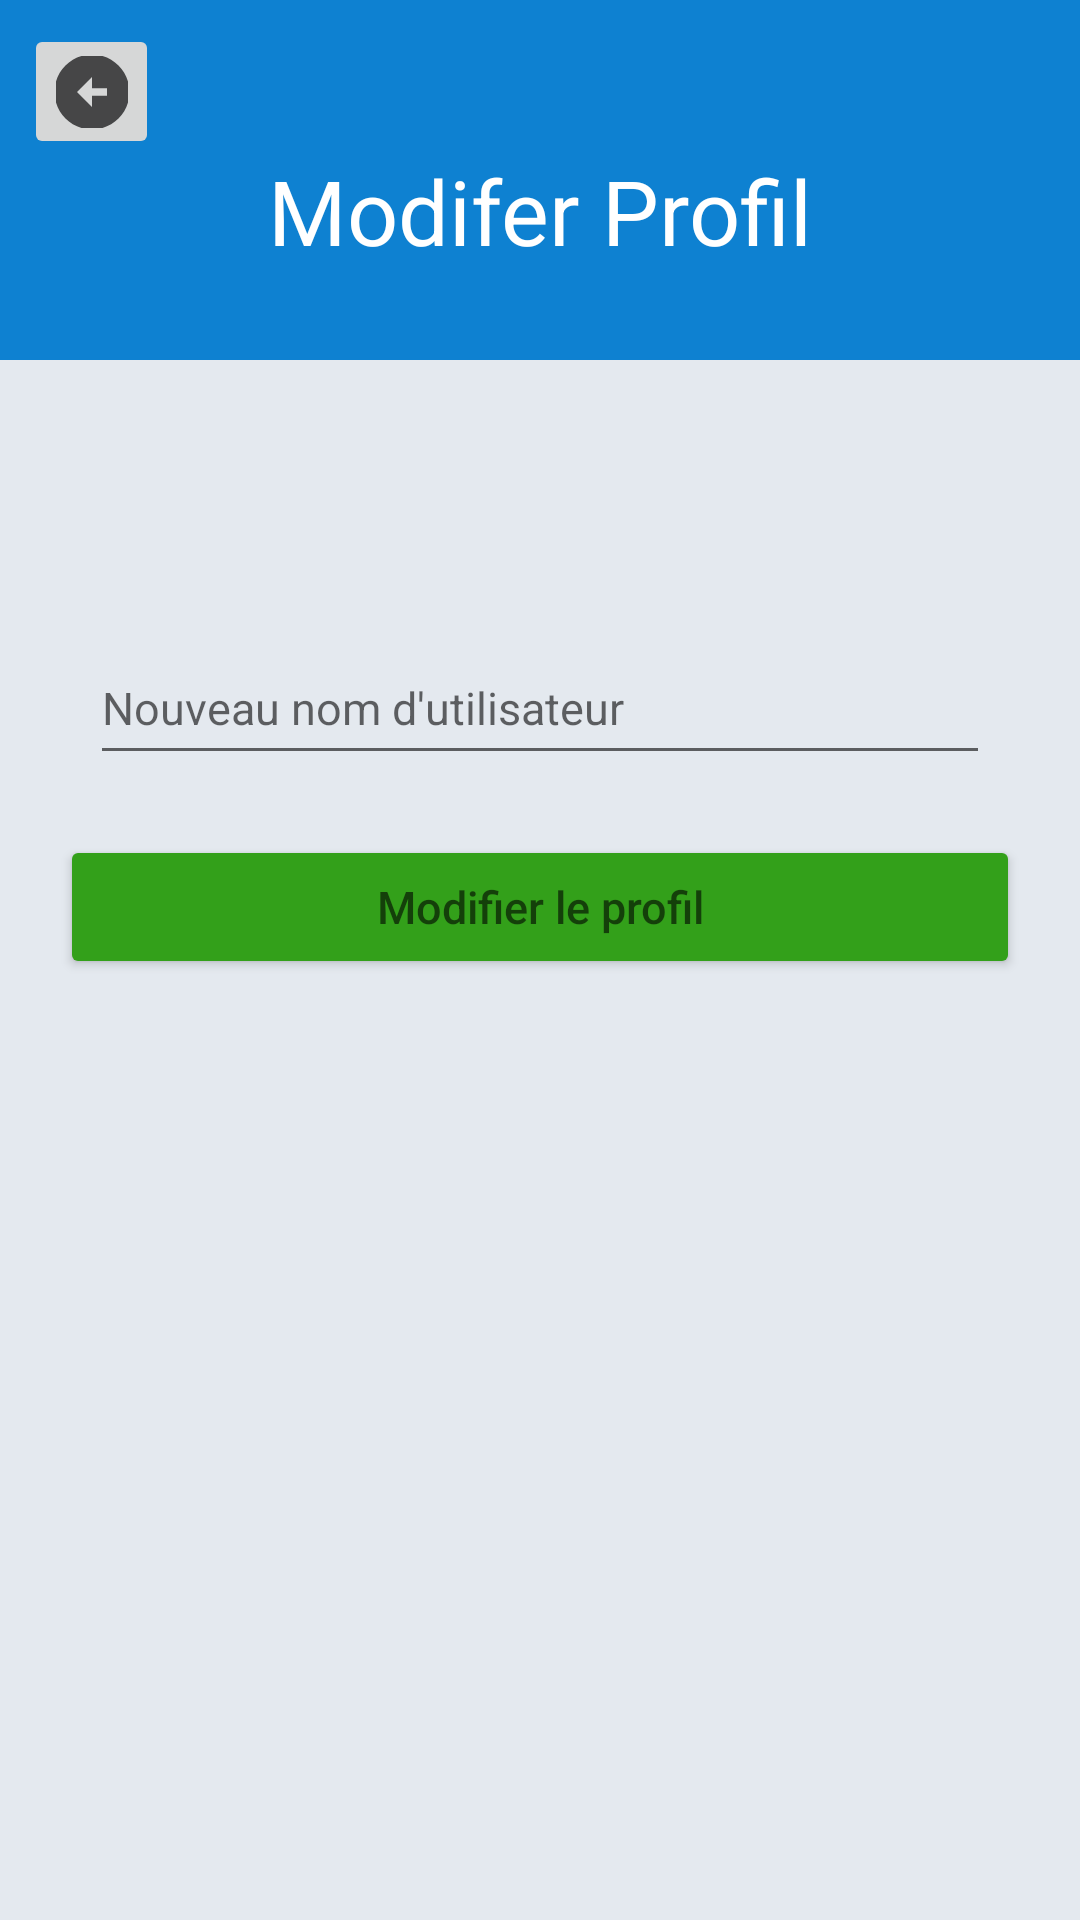

Named icons in this screenshot (1080×1920) and their centers, (x=x, y=y):
return: (x=91, y=91)
